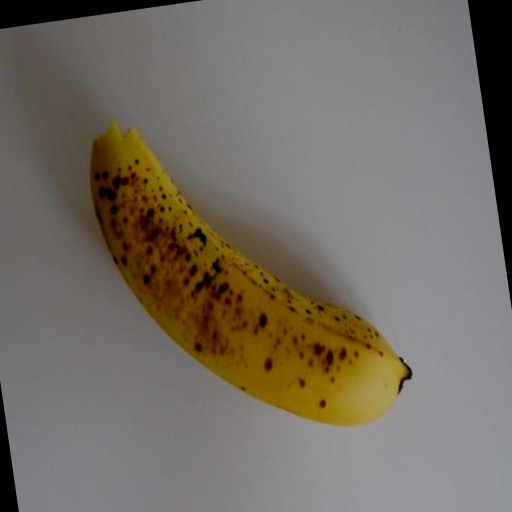fruit: (91, 122, 410, 425)
